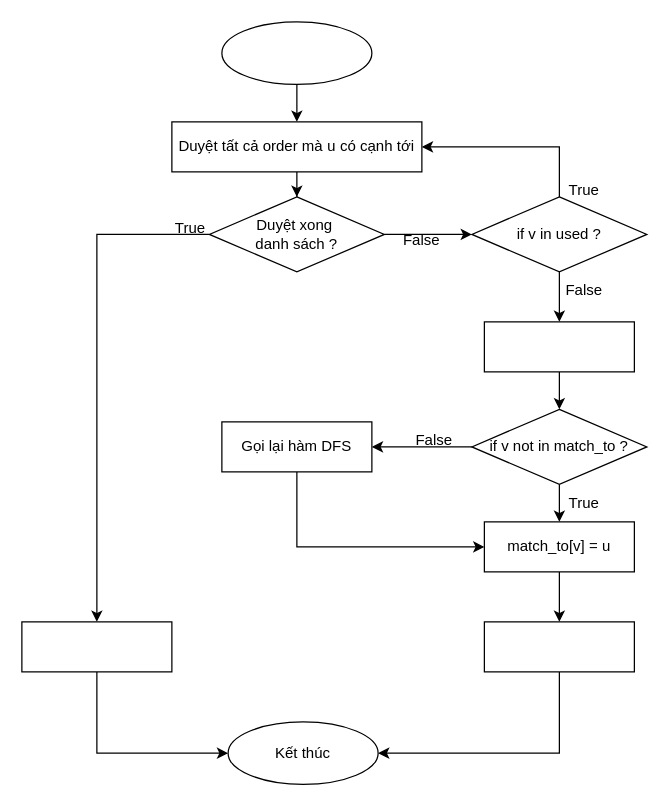
The diagram is 669 pixels wide and 806 high, and some of its shapes have lost their labels. The shapes that lost their labels are listed below. From the top down, each one's centre as x and y in pixels, then its label:
(x=296, y=52): Bắt đầu
(x=558, y=346): used.add(v)
(x=96, y=646): return False
(x=558, y=646): return True
